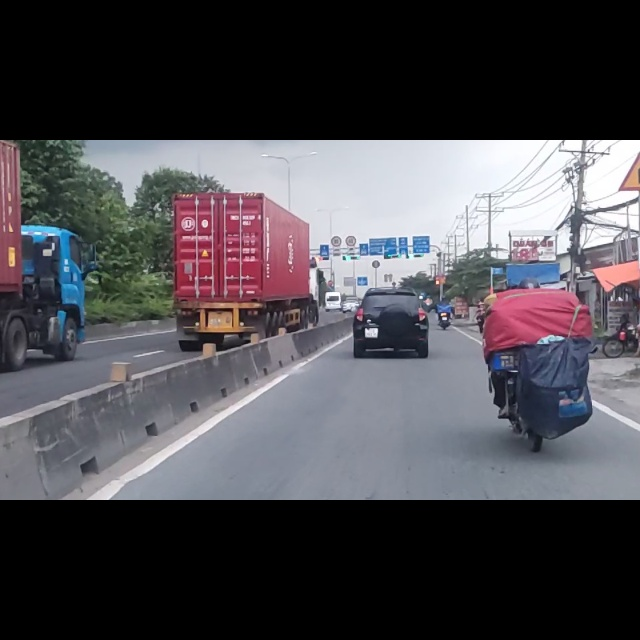bien_nguy_hiem: (345, 169, 356, 188), (331, 171, 341, 188)
